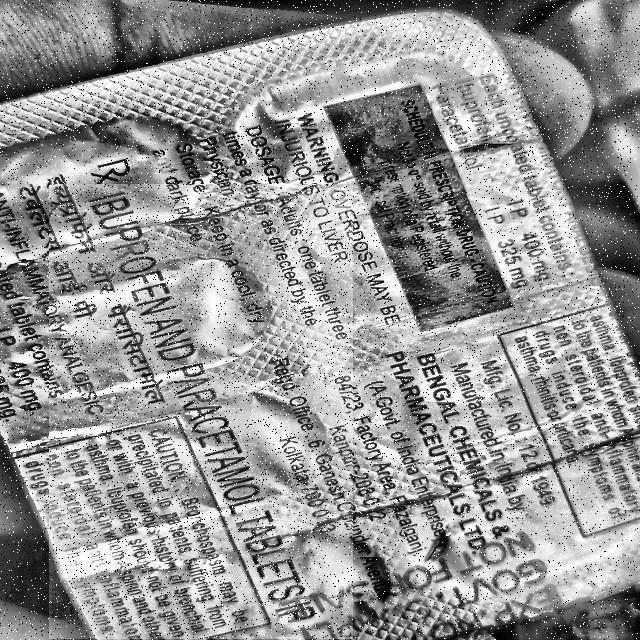IBUPROFEN AND PARACETAMOL TABLETS: (49, 185, 352, 638)
